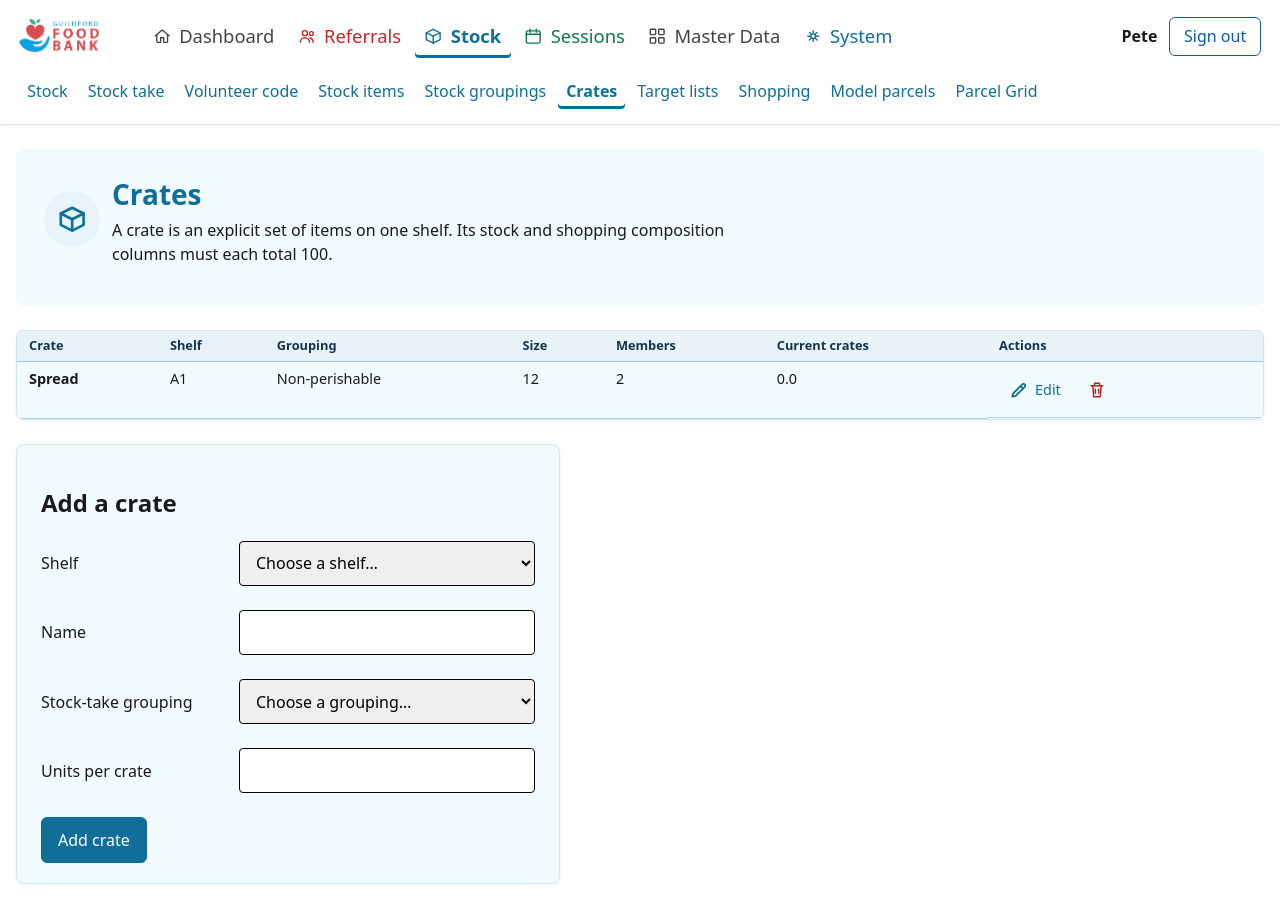
Test: crate deletion › asks for an explicit, named confirmation before deleting a crate
Click the button named "Delete Spread" at {"x": 1097, "y": 390}, box [1075,368,1119,412]
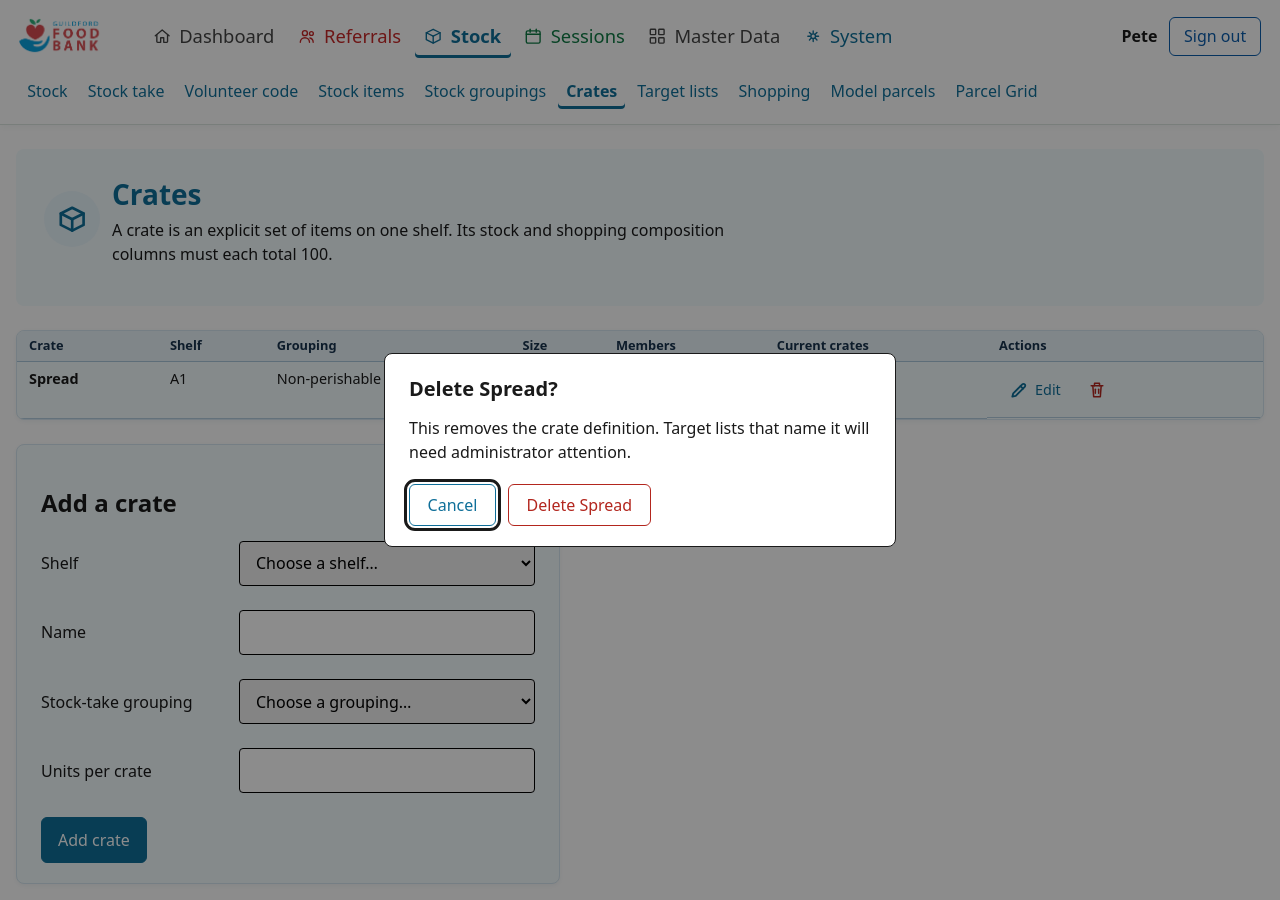
Expected: the heading "Delete Spread?" is shown, [409,375,558,402]
Expected: the text "Target lists that name it" is shown, [409,417,870,463]
Click the button "Cancel" at {"x": 452, "y": 505}, box [409,484,496,526]
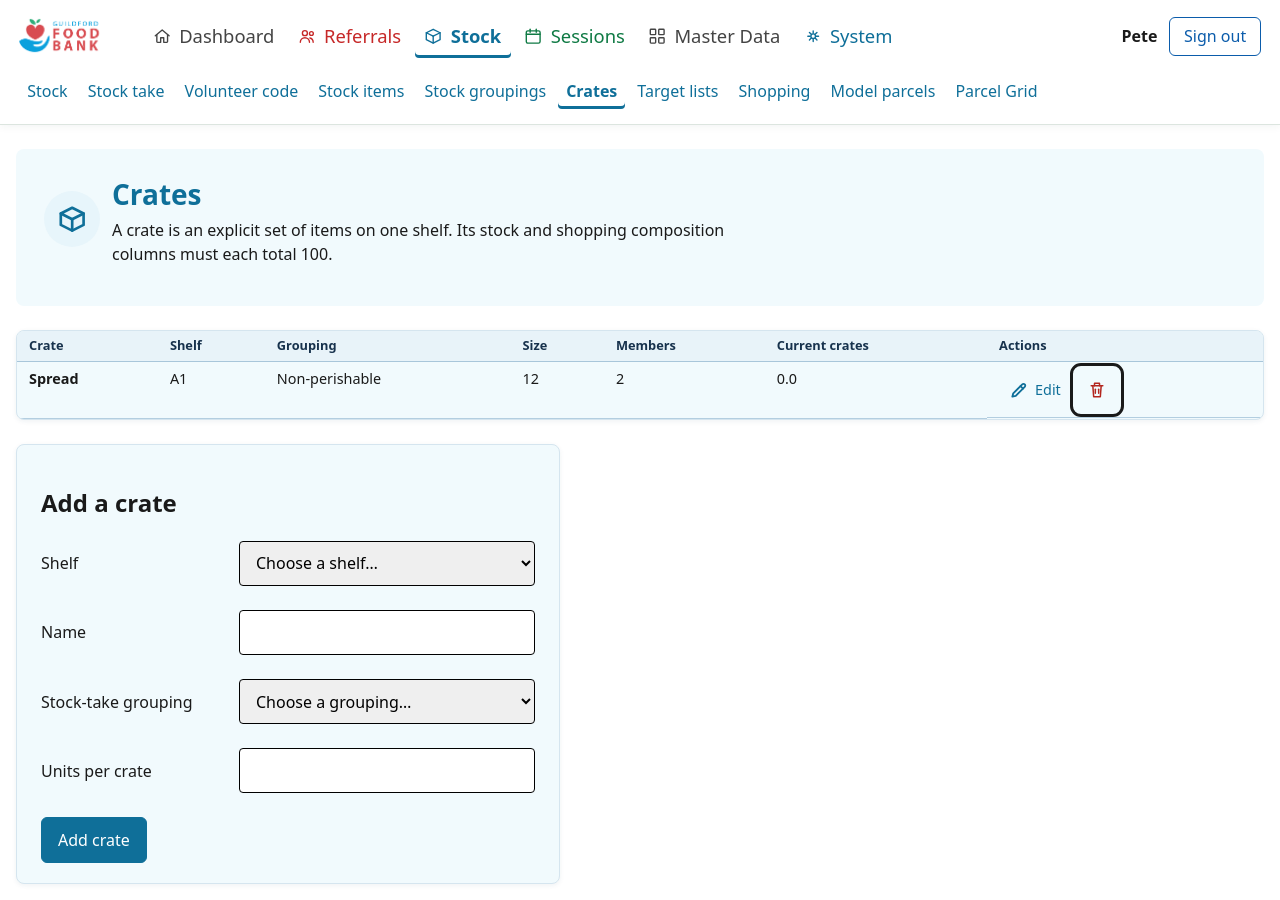
Expected: the heading "Delete Spread?" is gone
